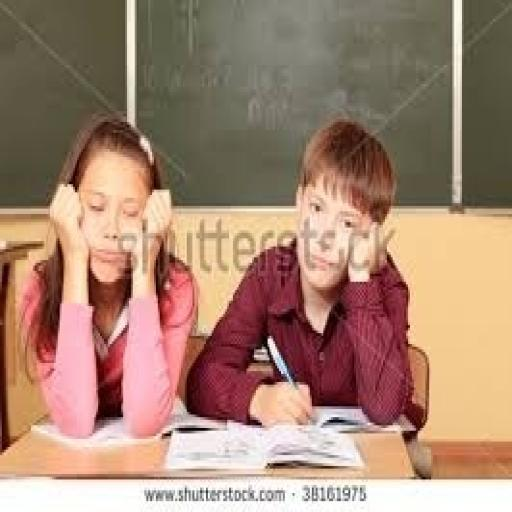sitting: (185, 114, 423, 431), (16, 114, 200, 439)
